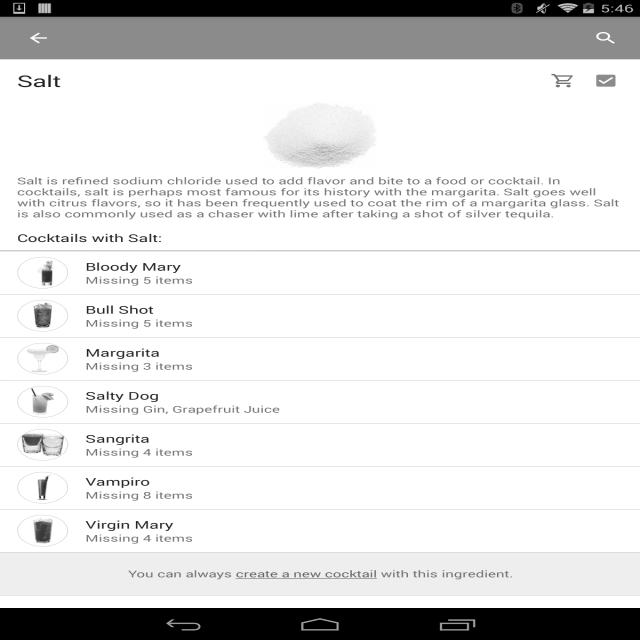CheckBox: (546, 70, 589, 91), (589, 70, 623, 91)
ImageButton: (212, 102, 428, 169), (9, 19, 68, 57)
ImageView: (17, 428, 68, 461), (17, 256, 68, 288), (17, 300, 68, 332), (17, 342, 68, 374), (17, 386, 68, 418), (17, 472, 68, 504), (17, 514, 68, 546)
TextView: (17, 174, 623, 220), (0, 231, 640, 250), (17, 70, 546, 92), (68, 256, 614, 274), (68, 342, 614, 360), (68, 428, 614, 446), (68, 514, 614, 532), (68, 300, 614, 316), (68, 386, 614, 402), (68, 472, 614, 488), (68, 274, 614, 286), (68, 317, 614, 329), (68, 360, 614, 372), (68, 403, 614, 415), (68, 446, 614, 458), (68, 489, 614, 501), (68, 532, 614, 544), (128, 567, 512, 580), (580, 22, 632, 54)
